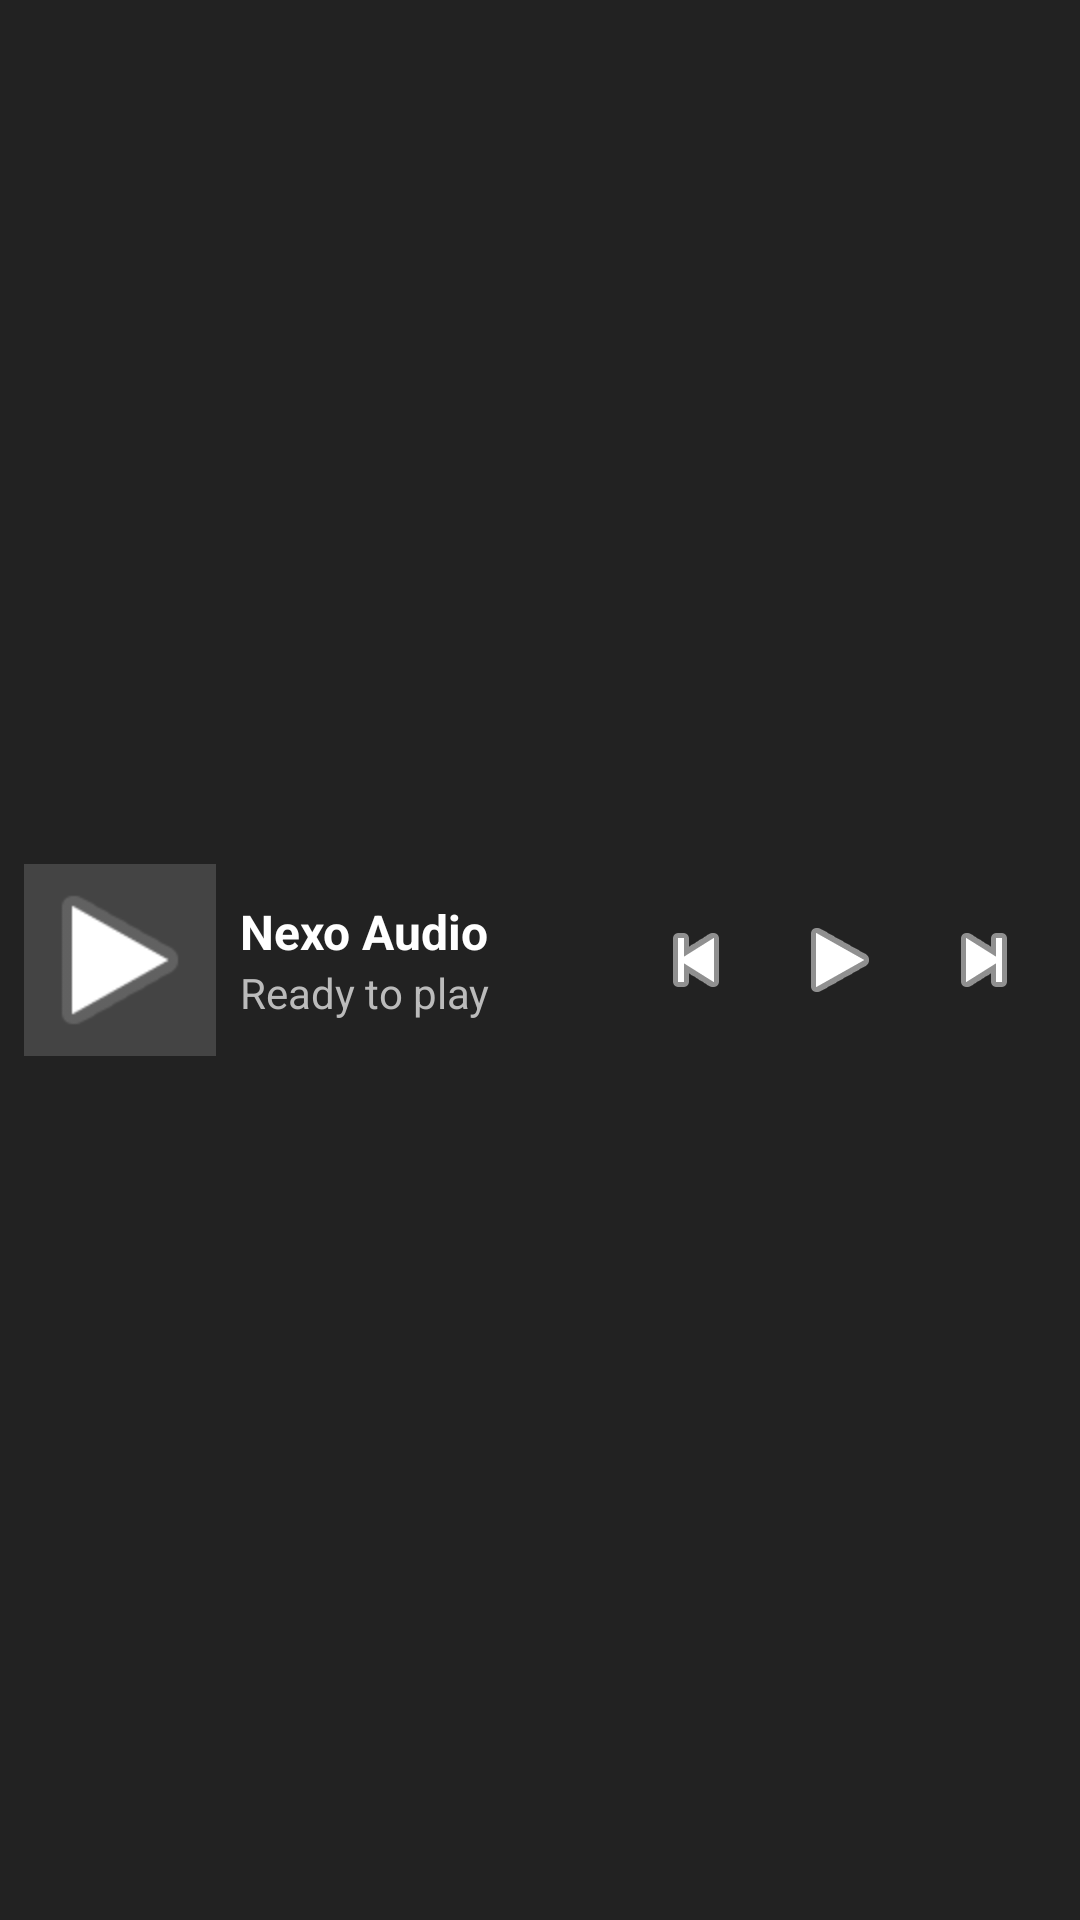

Locate icon controls on the screen. Image size 1080 x 1920, boxes as (x1, y1, x2, y2).
next: (961, 933, 1007, 987)
previous: (673, 933, 719, 987)
